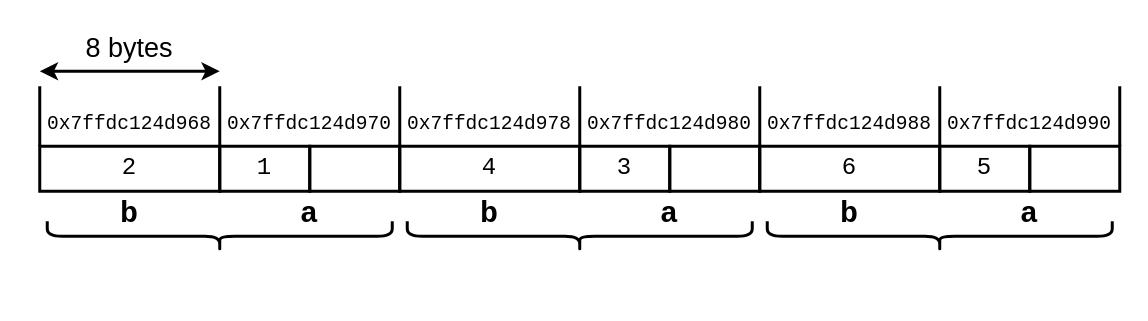
Some shapes in this 1148 by 321 pixel diagram are drawn without their labels. The shapes that lost their labels are listed below. From the top down, each one's centre as x and y in pixels, then its label:
At (x=219, y=235): "arr[0]".
At (x=579, y=235): "arr[1]".
At (x=939, y=235): "arr[2]".
